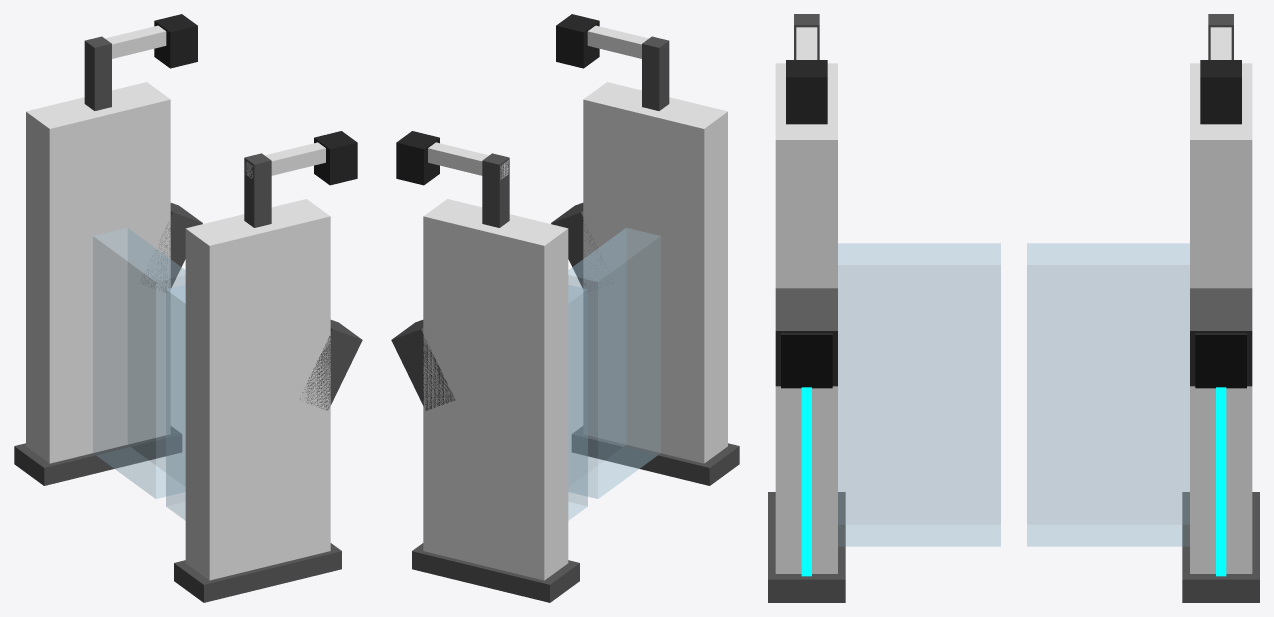
Rendered from autogate_pro.glb.
3 renders of one model, left to right at view 1: azimuth 30°, elevation 25°; view 2: azimuth 150°, elevation 25°; view 3: azimuth 270°, elevation 25°, orthographic. The views are drawn at different scales.
Parts seen in each view (by area): view 1: L_Body, R_Body, Glass_R, Glass_L, L_Base, R_Base, L_Screen, R_BoomBase, L_BoomBase, L_Cam, R_Cam, R_Screen (+2 smaller); view 2: R_Body, L_Body, Glass_L, Glass_R, R_Base, L_Base, R_Screen, L_BoomBase, R_BoomBase, R_Cam, L_Cam, R_BoomArm (+2 smaller); view 3: Glass_L, Glass_R, L_Body, R_Body, L_Base, R_Base, L_Screen, R_Screen, L_ScreenDisp, R_ScreenDisp, L_Cam, R_Cam (+4 smaller).
Part boxes in pixels (x1=…): L_Body: x1=185, y1=199, x2=330, y2=580; R_Body: x1=26, y1=82, x2=170, y2=463; Glass_R: x1=93, y1=228, x2=185, y2=498; Glass_L: x1=166, y1=285, x2=185, y2=520; L_Base: x1=174, y1=543, x2=341, y2=602; R_Base: x1=14, y1=426, x2=181, y2=485; L_Screen: x1=300, y1=320, x2=362, y2=410; R_BoomBase: x1=84, y1=36, x2=111, y2=110; L_BoomBase: x1=244, y1=153, x2=271, y2=227; L_Cam: x1=314, y1=131, x2=357, y2=185; R_Cam: x1=154, y1=14, x2=197, y2=68; R_Screen: x1=143, y1=203, x2=202, y2=291; R_Body: x1=423, y1=199, x2=568, y2=580; L_Body: x1=583, y1=82, x2=727, y2=463; Glass_L: x1=568, y1=228, x2=660, y2=498; Glass_R: x1=568, y1=285, x2=587, y2=520; R_Base: x1=412, y1=543, x2=579, y2=602; L_Base: x1=572, y1=426, x2=739, y2=485; R_Screen: x1=391, y1=320, x2=455, y2=410; L_BoomBase: x1=642, y1=36, x2=669, y2=110; R_BoomBase: x1=482, y1=153, x2=509, y2=227; R_Cam: x1=396, y1=131, x2=439, y2=185; L_Cam: x1=556, y1=14, x2=599, y2=68; R_BoomArm: x1=428, y1=142, x2=508, y2=179; Glass_L: x1=838, y1=243, x2=1000, y2=546; Glass_R: x1=1027, y1=243, x2=1189, y2=546; L_Body: x1=775, y1=63, x2=837, y2=573; R_Body: x1=1190, y1=63, x2=1252, y2=573; L_Base: x1=768, y1=492, x2=845, y2=602; R_Base: x1=1182, y1=492, x2=1259, y2=602; L_Screen: x1=775, y1=288, x2=837, y2=386; R_Screen: x1=1190, y1=288, x2=1252, y2=386; L_ScreenDisp: x1=781, y1=333, x2=832, y2=388; R_ScreenDisp: x1=1195, y1=333, x2=1246, y2=388; L_Cam: x1=786, y1=60, x2=827, y2=124; R_Cam: x1=1200, y1=60, x2=1241, y2=124.
Bounding box in the file's own units: 0.9366 × 2.3 × 1.9.
